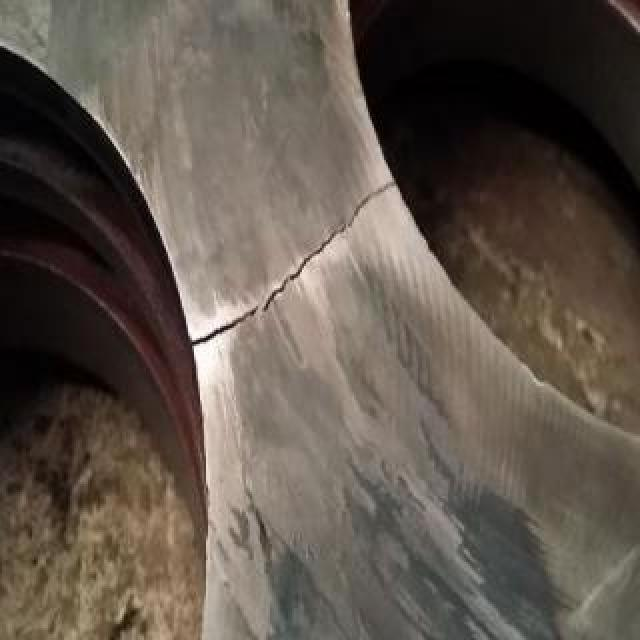crack: (181, 170, 401, 366)
